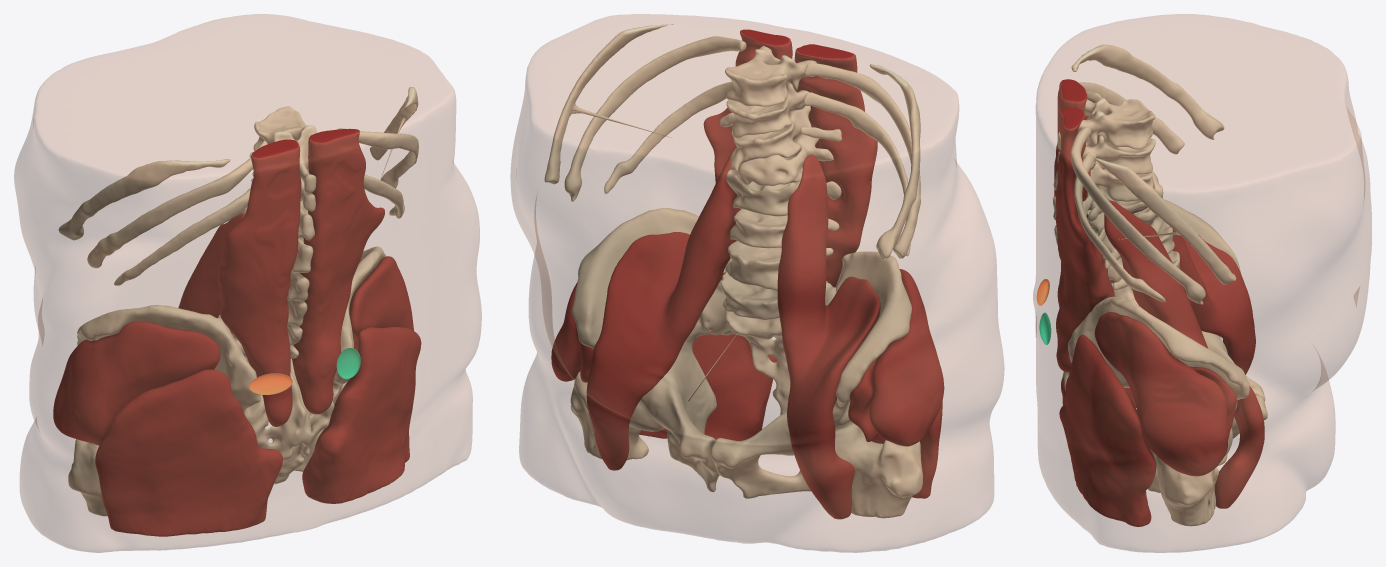
The model's file is lower-back-3d-web.glb.
The picture shows the model from 3 angles, left to right: view 1: azimuth 30°, elevation 25°; view 2: azimuth 150°, elevation 25°; view 3: azimuth 270°, elevation 25°; orthographic projection. The views are drawn at different scales.
Parts seen in each view (by area): view 1: skin, muscle_gluteus_maximus_left, muscle_erector_spinae_left, muscle_erector_spinae_right, muscle_gluteus_maximus_right, muscle_gluteus_medius_left, bone_hip_left, bone_sacrum, muscle_gluteus_medius_right, bone_rib10_left, bone_rib9_left, muscle_iliopsoas_left (+9 smaller); view 2: skin, muscle_iliopsoas_right, muscle_iliopsoas_left, bone_hip_right, bone_hip_left, muscle_erector_spinae_left, muscle_gluteus_medius_left, muscle_gluteus_maximus_right, bone_femur_left, bone_sacrum, bone_rib10_right, bone_T10 (+17 smaller); view 3: skin, muscle_gluteus_medius_right, muscle_gluteus_maximus_right, muscle_iliopsoas_right, muscle_erector_spinae_right, muscle_iliopsoas_left, bone_hip_right, bone_T10, bone_femur_right, bone_rib9_left, bone_rib10_right, bone_rib9_right (+11 smaller).
Boxes of the visible parts, x1,y1,x2,y2 form: skin: (14, 14, 481, 552); muscle_gluteus_maximus_left: (95, 369, 282, 536); muscle_erector_spinae_left: (218, 139, 301, 426); muscle_erector_spinae_right: (292, 129, 384, 414); muscle_gluteus_maximus_right: (302, 326, 421, 503); muscle_gluteus_medius_left: (53, 321, 220, 445); bone_hip_left: (77, 305, 260, 411); bone_sacrum: (234, 337, 338, 484); muscle_gluteus_medius_right: (349, 256, 413, 341); bone_rib10_left: (87, 141, 267, 268); bone_rib9_left: (58, 159, 230, 240); muscle_iliopsoas_left: (178, 213, 243, 317); skin: (510, 14, 1004, 552); muscle_iliopsoas_right: (586, 145, 740, 470); muscle_iliopsoas_left: (777, 154, 880, 519); bone_hip_right: (572, 208, 737, 491); bone_hip_left: (711, 251, 911, 498); muscle_erector_spinae_left: (794, 44, 877, 287); muscle_gluteus_medius_left: (869, 269, 944, 446); muscle_gluteus_maximus_right: (639, 334, 777, 440); bone_femur_left: (835, 421, 922, 518); bone_sacrum: (700, 268, 836, 414); bone_rib10_right: (564, 36, 746, 201); bone_T10: (725, 46, 816, 106); skin: (1033, 14, 1371, 552); muscle_gluteus_medius_right: (1094, 312, 1227, 476); muscle_gluteus_maximus_right: (1059, 334, 1156, 526); muscle_iliopsoas_right: (1104, 200, 1264, 508); muscle_erector_spinae_right: (1056, 107, 1114, 372); muscle_iliopsoas_left: (1170, 226, 1255, 374); bone_hip_right: (1068, 296, 1267, 492); bone_T10: (1057, 98, 1155, 149); bone_femur_right: (1156, 428, 1232, 526); bone_rib9_left: (1071, 44, 1224, 139); bone_rib10_right: (1070, 127, 1205, 304); bone_rib9_right: (1090, 155, 1236, 284).
Bounding box in the file's own units: 0.4318 × 0.3574 × 0.3053.
